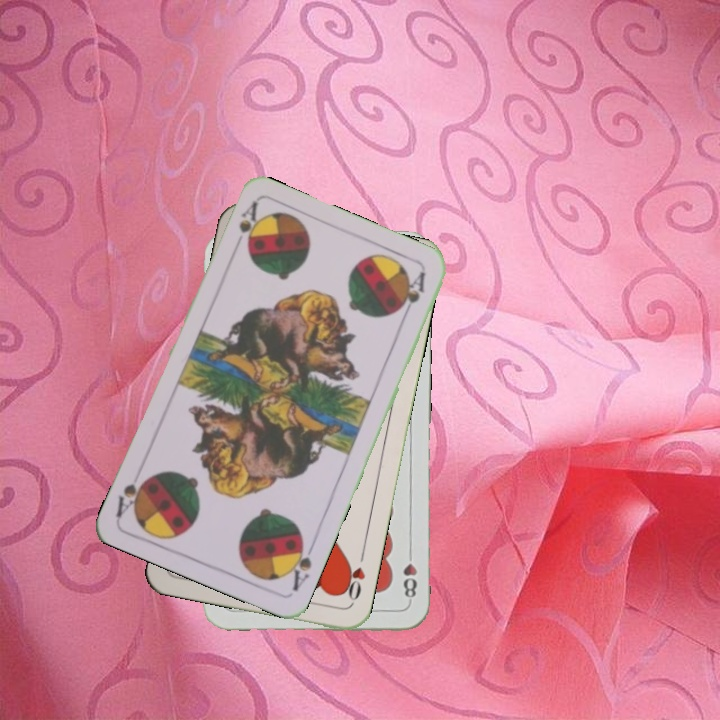H8: (399, 546, 419, 605)
HO: (338, 548, 368, 606)
SA: (282, 534, 318, 594), (229, 198, 260, 255)
